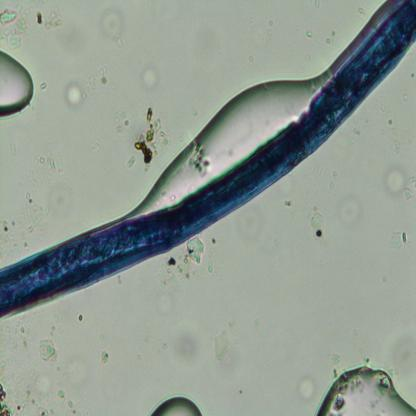Air bubble: (145, 62, 308, 206), (317, 361, 416, 416), (0, 48, 40, 119), (149, 391, 205, 416)
Background material: (124, 108, 163, 170), (166, 239, 216, 284), (0, 3, 36, 50), (65, 67, 106, 107), (22, 371, 57, 415), (387, 325, 416, 375), (20, 183, 48, 233), (0, 215, 29, 256), (212, 321, 237, 366), (175, 329, 205, 366), (240, 209, 270, 245), (380, 158, 404, 202), (0, 322, 32, 354), (310, 208, 331, 253), (341, 192, 365, 230), (152, 280, 182, 310), (0, 379, 23, 416), (62, 358, 89, 389), (32, 6, 66, 30), (35, 150, 64, 175), (55, 389, 79, 415), (40, 337, 61, 365), (297, 379, 318, 404), (388, 229, 407, 255), (145, 341, 178, 355), (144, 67, 160, 92), (117, 108, 133, 130), (403, 183, 416, 200), (72, 306, 84, 324), (388, 115, 397, 134), (407, 171, 416, 189), (39, 77, 49, 92), (0, 352, 7, 373), (92, 140, 104, 150), (354, 125, 362, 139), (100, 349, 108, 363), (304, 27, 314, 38), (392, 142, 402, 153), (288, 200, 296, 211), (313, 0, 320, 11), (404, 89, 408, 103), (326, 38, 332, 45)
Cotton: (0, 0, 416, 324)
Edge of slide: (100, 6, 127, 50)
